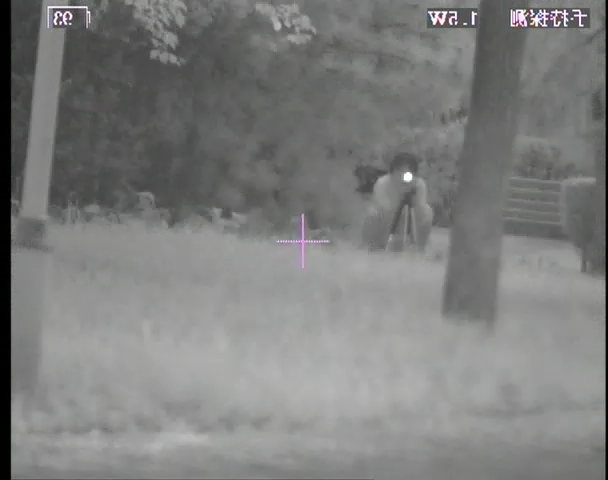my: (401, 170, 414, 185)
